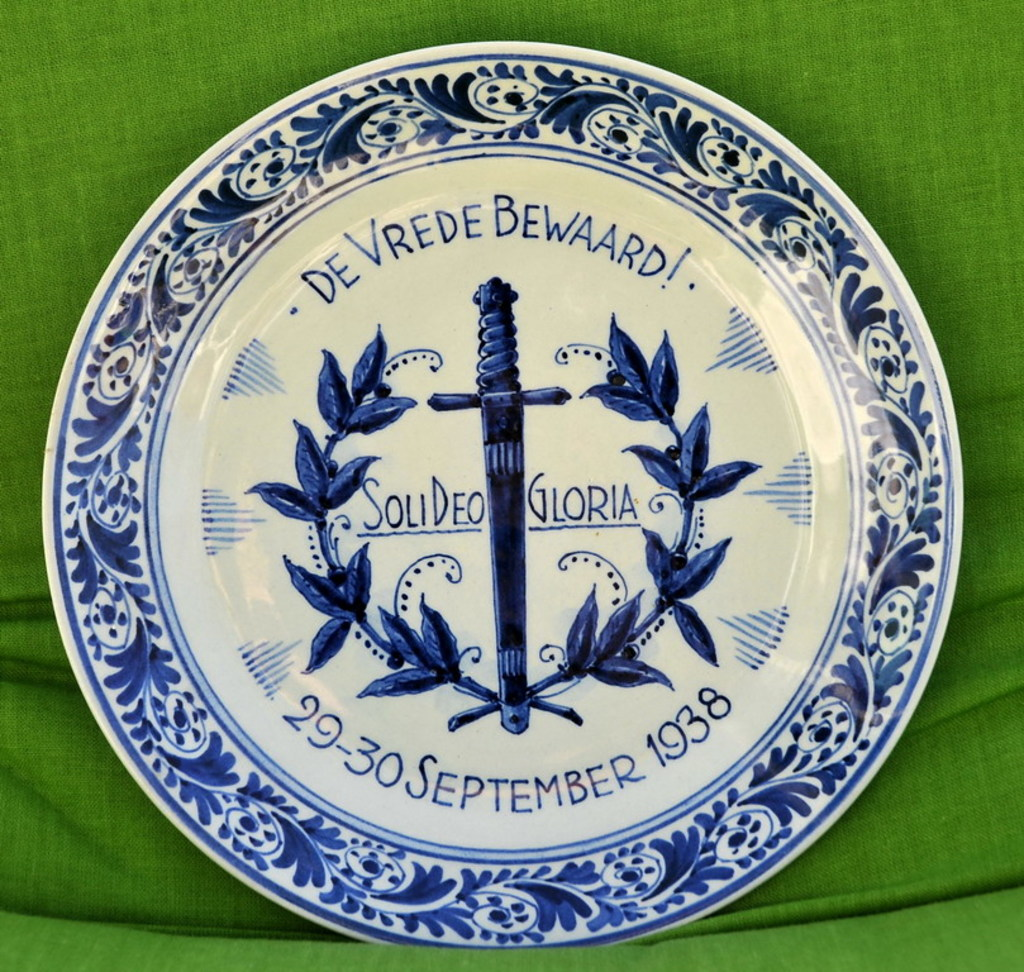plate: (35, 31, 969, 944)
